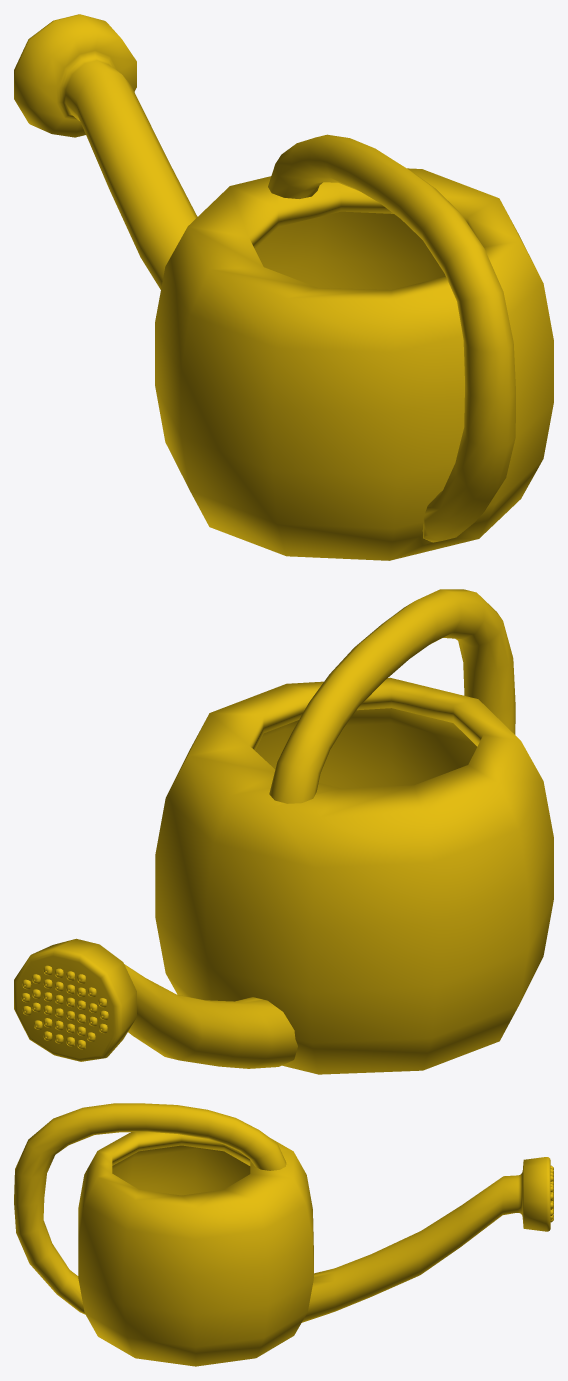
Rendered from toolsWatering_can.fbx.
3 renders of one model, top to bottom at view 1: azimuth 30°, elevation 25°; view 2: azimuth 150°, elevation 25°; view 3: azimuth 270°, elevation 25°, orthographic. The views are drawn at different scales.
Visible parts, largest first — view 1: Watering can; view 2: Watering can; view 3: Watering can.
Part boxes in pixels (x1=…): Watering can: x1=14, y1=14, x2=553, y2=560; Watering can: x1=14, y1=589, x2=553, y2=1074; Watering can: x1=14, y1=1103, x2=553, y2=1366.
Size of the model in its own units: 116 by 113 by 254.
